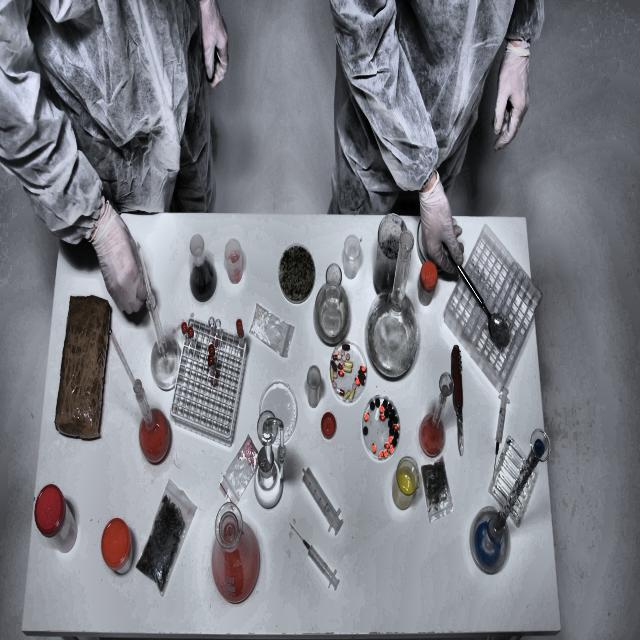gloved: (79, 192, 153, 324), (413, 170, 466, 282), (495, 28, 536, 154), (194, 5, 236, 97)
